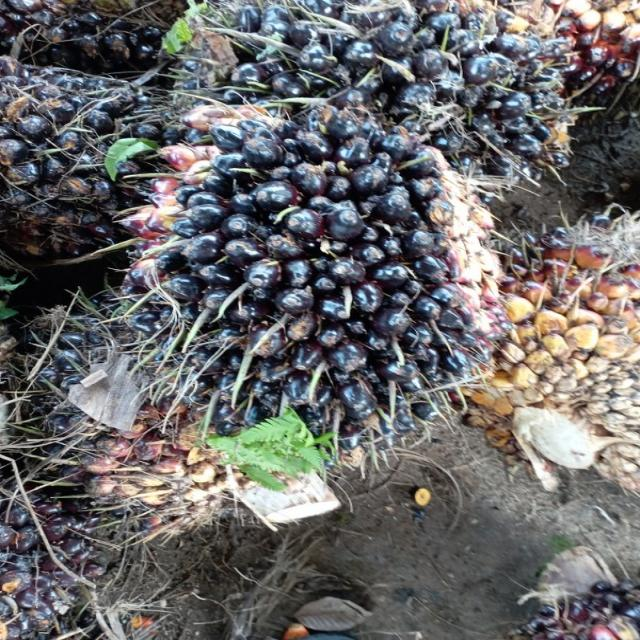fraksi 00: (130, 107, 490, 439), (162, 0, 579, 171), (0, 62, 174, 260)
